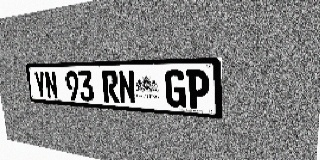3: (78, 71, 94, 102)
9: (65, 71, 80, 101)
G: (165, 70, 186, 108)
N: (118, 70, 136, 104), (44, 71, 58, 99)
P: (186, 69, 209, 109)
R: (102, 70, 119, 103)
Y: (33, 71, 47, 98)
